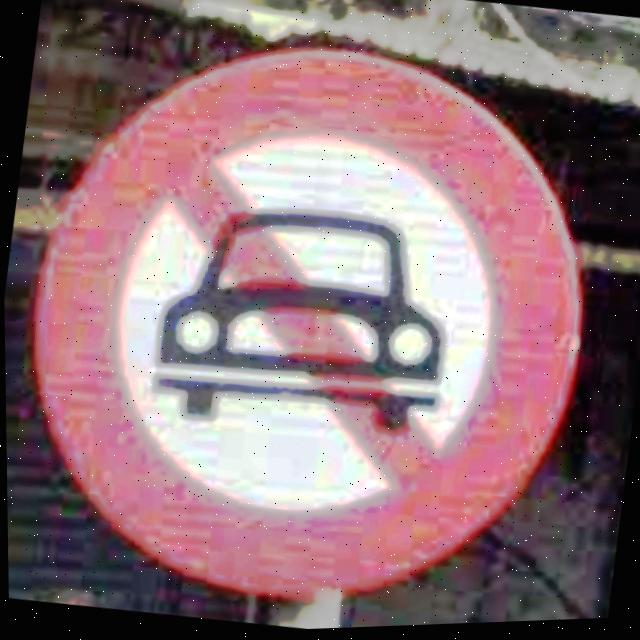nocar: (30, 47, 584, 607)
